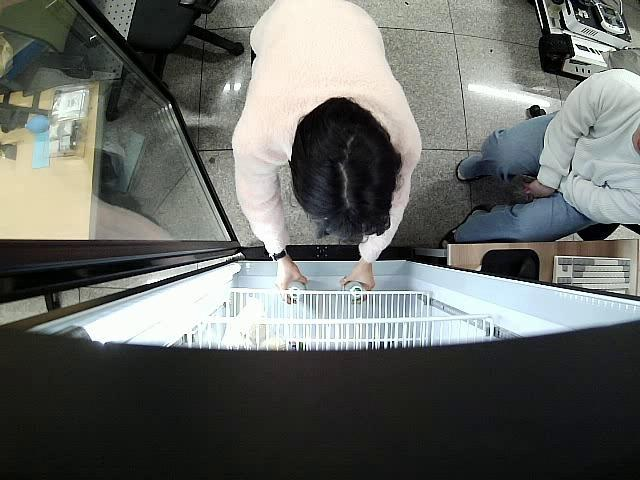18_trevi: (286, 283, 306, 304), (343, 282, 362, 304)
